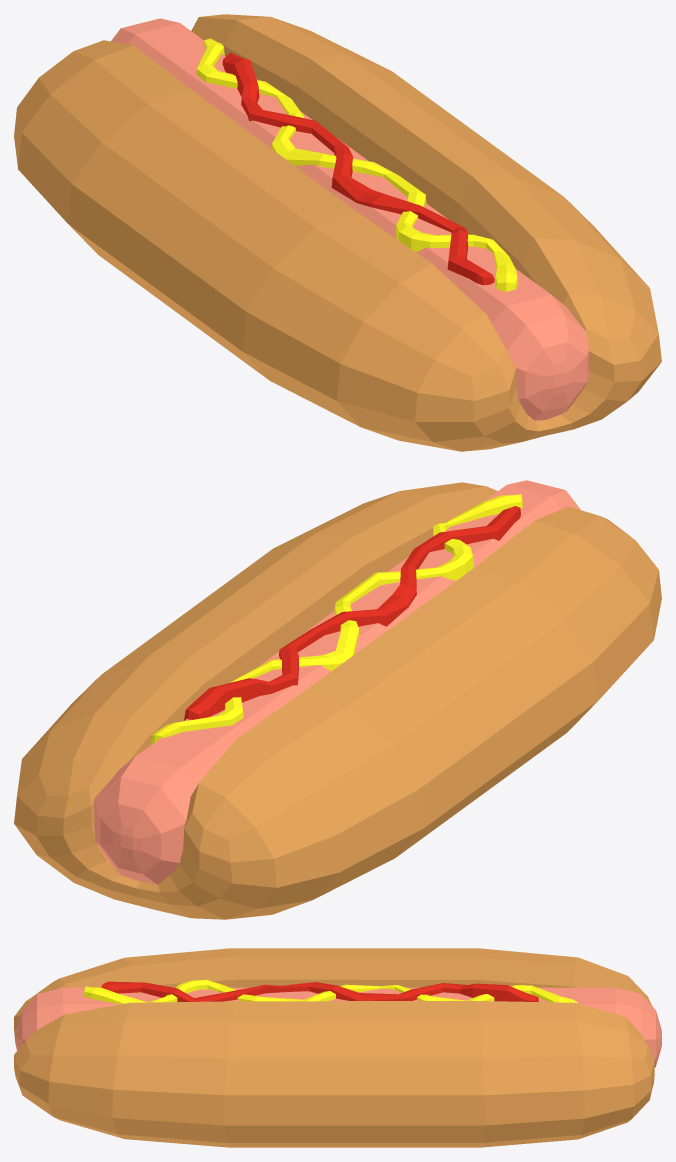
File: Hotdog.glb
3 views of the same model, one above another, from view 1: azimuth 30°, elevation 25°; view 2: azimuth 150°, elevation 25°; view 3: azimuth 270°, elevation 25° (orthographic). The views are drawn at different scales.
Parts seen in each view (by area): view 1: Hotdog; view 2: Hotdog; view 3: Hotdog.
Part boxes in pixels (x1,y1,x2,y2): Hotdog: (14, 14, 661, 451); Hotdog: (14, 480, 661, 919); Hotdog: (14, 948, 661, 1147).
Bounding box in the file's own units: 78.53 × 40.94 × 166.
